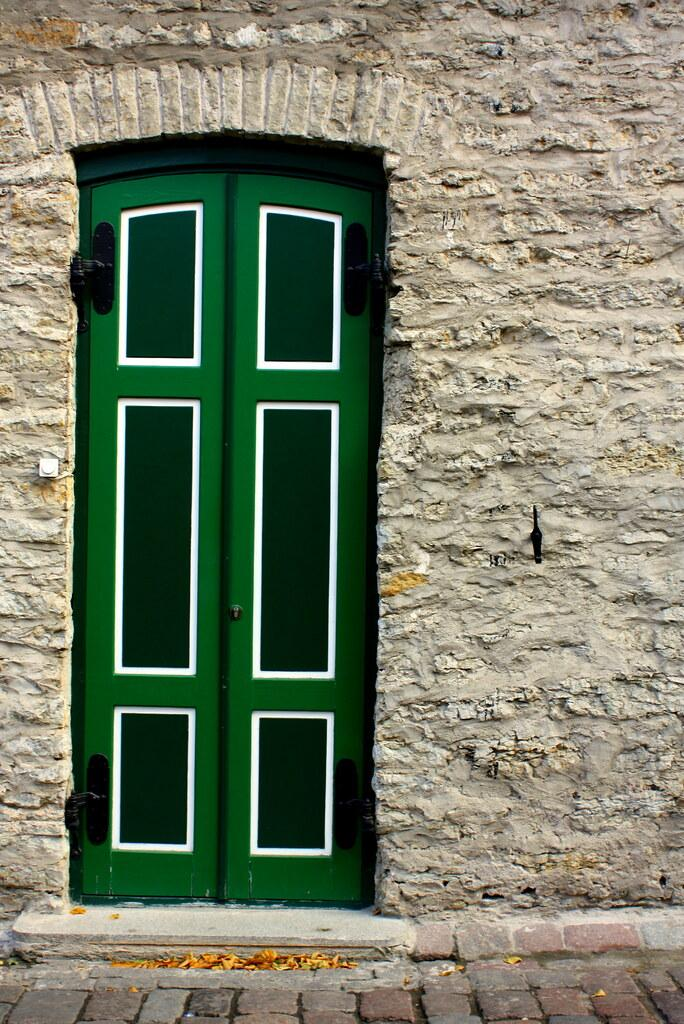door: (73, 147, 384, 907)
